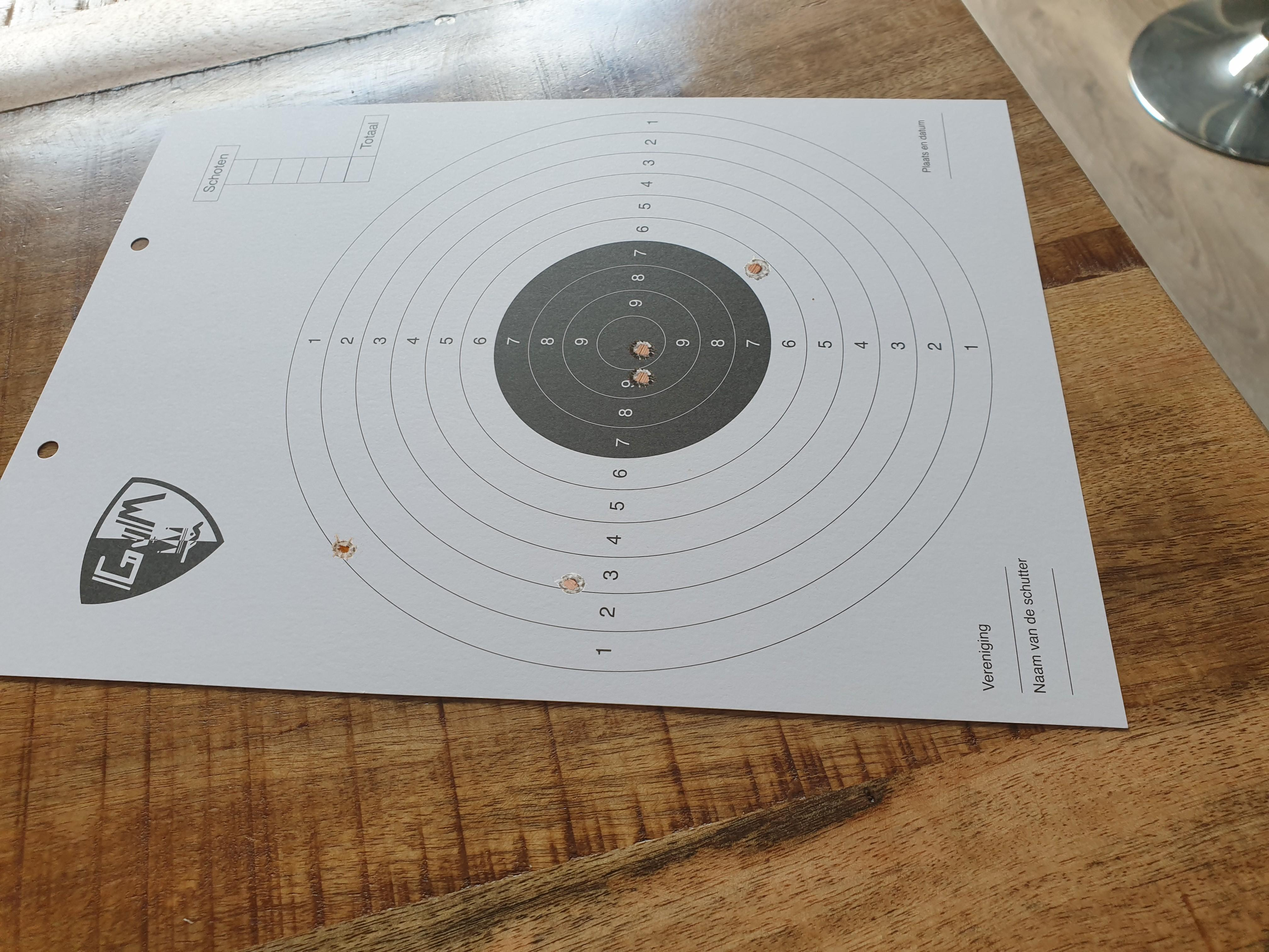hole: (330, 535, 357, 560), (557, 573, 587, 595), (628, 338, 657, 360), (743, 258, 770, 281), (629, 368, 656, 388)
